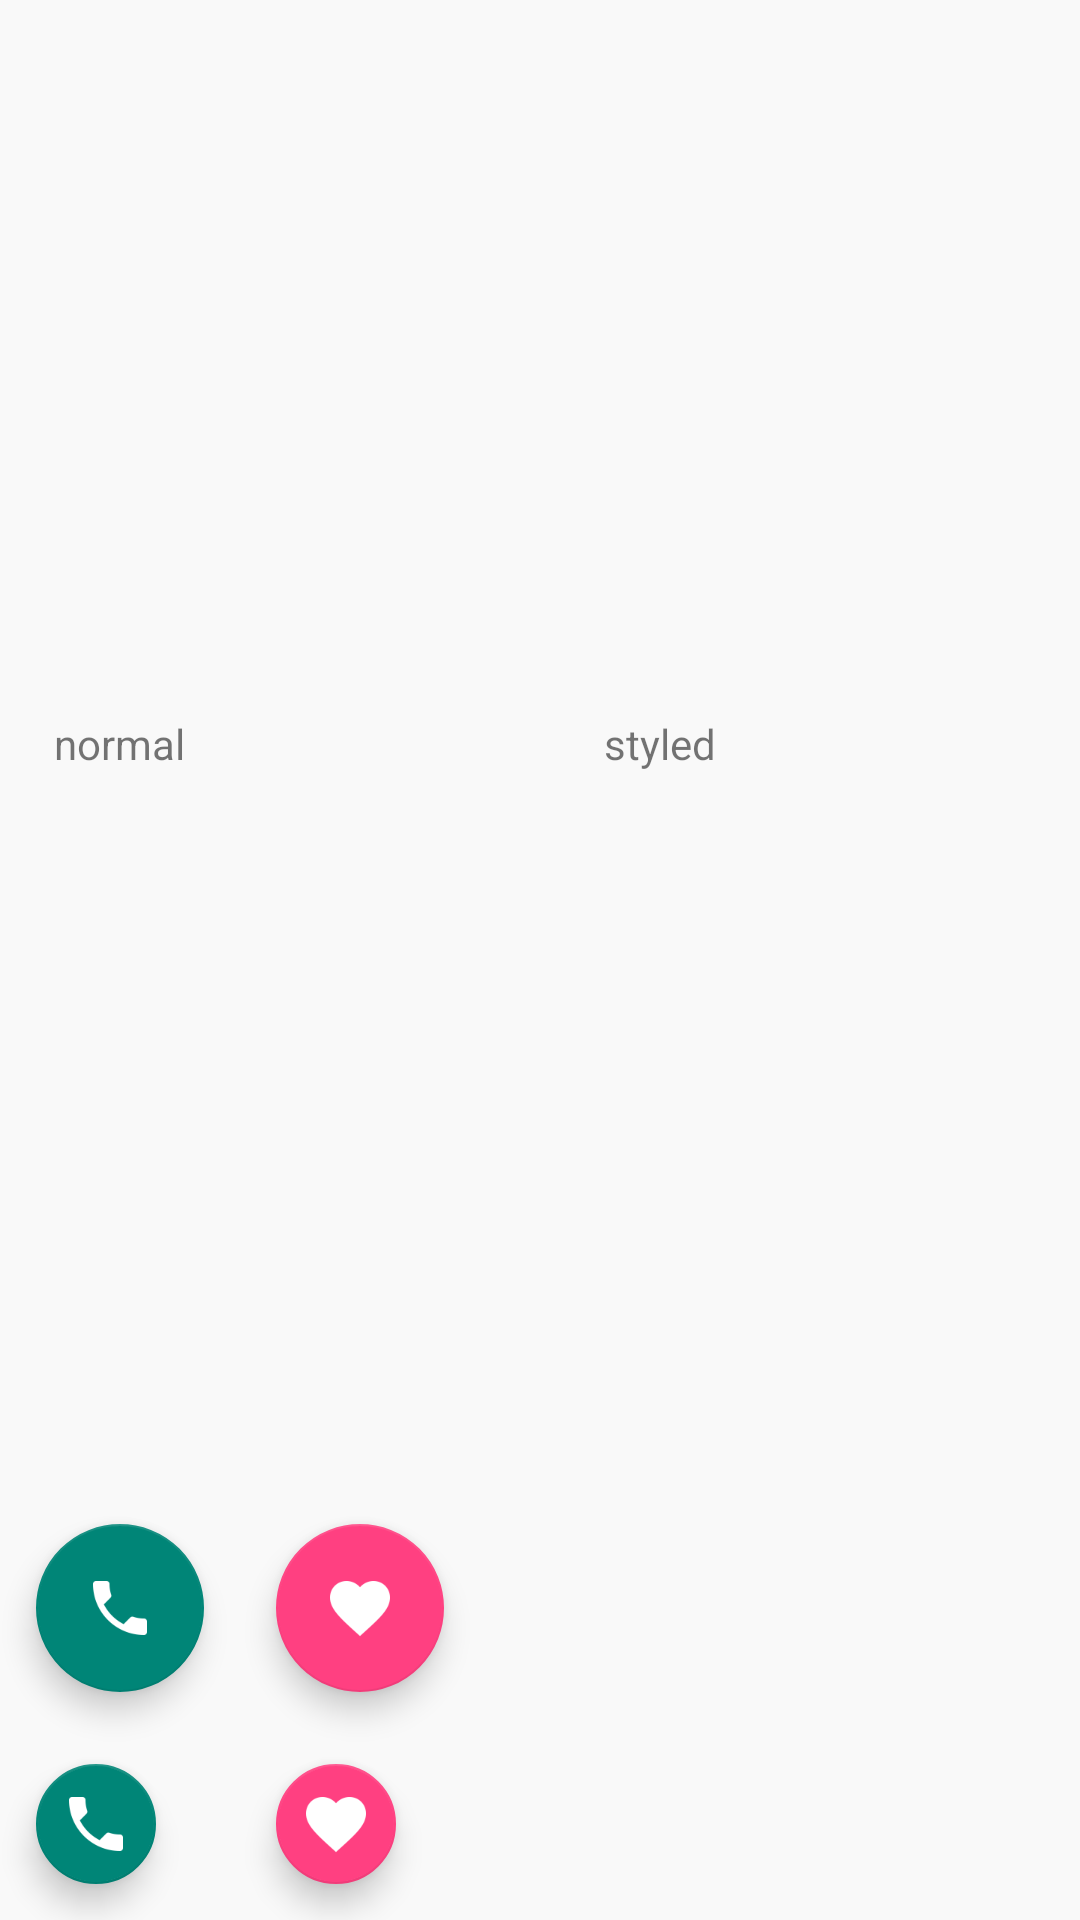

Icon bounding boxes for this 1080x1920 phone screenshot, format {"x1": x1, "y1": y1, "x2": x2, "y2": y2}:
call: {"x1": 36, "y1": 1524, "x2": 204, "y2": 1692}, {"x1": 36, "y1": 1764, "x2": 156, "y2": 1884}
favorite: {"x1": 276, "y1": 1524, "x2": 444, "y2": 1692}, {"x1": 276, "y1": 1764, "x2": 396, "y2": 1884}
